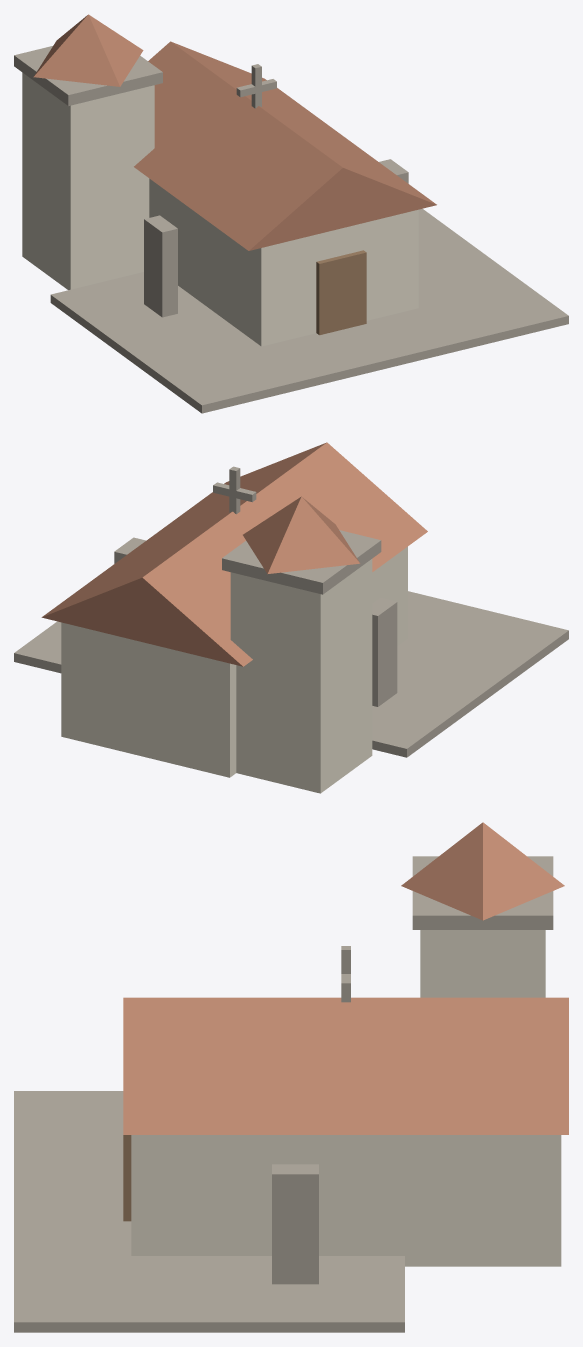
File: colonial_church_lod0.glb
The picture shows the model from 3 angles, top to bottom: view 1: azimuth 30°, elevation 25°; view 2: azimuth 150°, elevation 25°; view 3: azimuth 270°, elevation 25°; orthographic projection. The views are drawn at different scales.
Parts seen in each view (by area): view 1: colonial_church; view 2: colonial_church; view 3: colonial_church.
Part boxes in pixels (<box>): colonial_church: <box>14,14,568,413</box>; colonial_church: <box>14,442,568,793</box>; colonial_church: <box>14,822,568,1332</box>.
Bounding box in the file's own units: 14 × 9.1 × 14.2.
